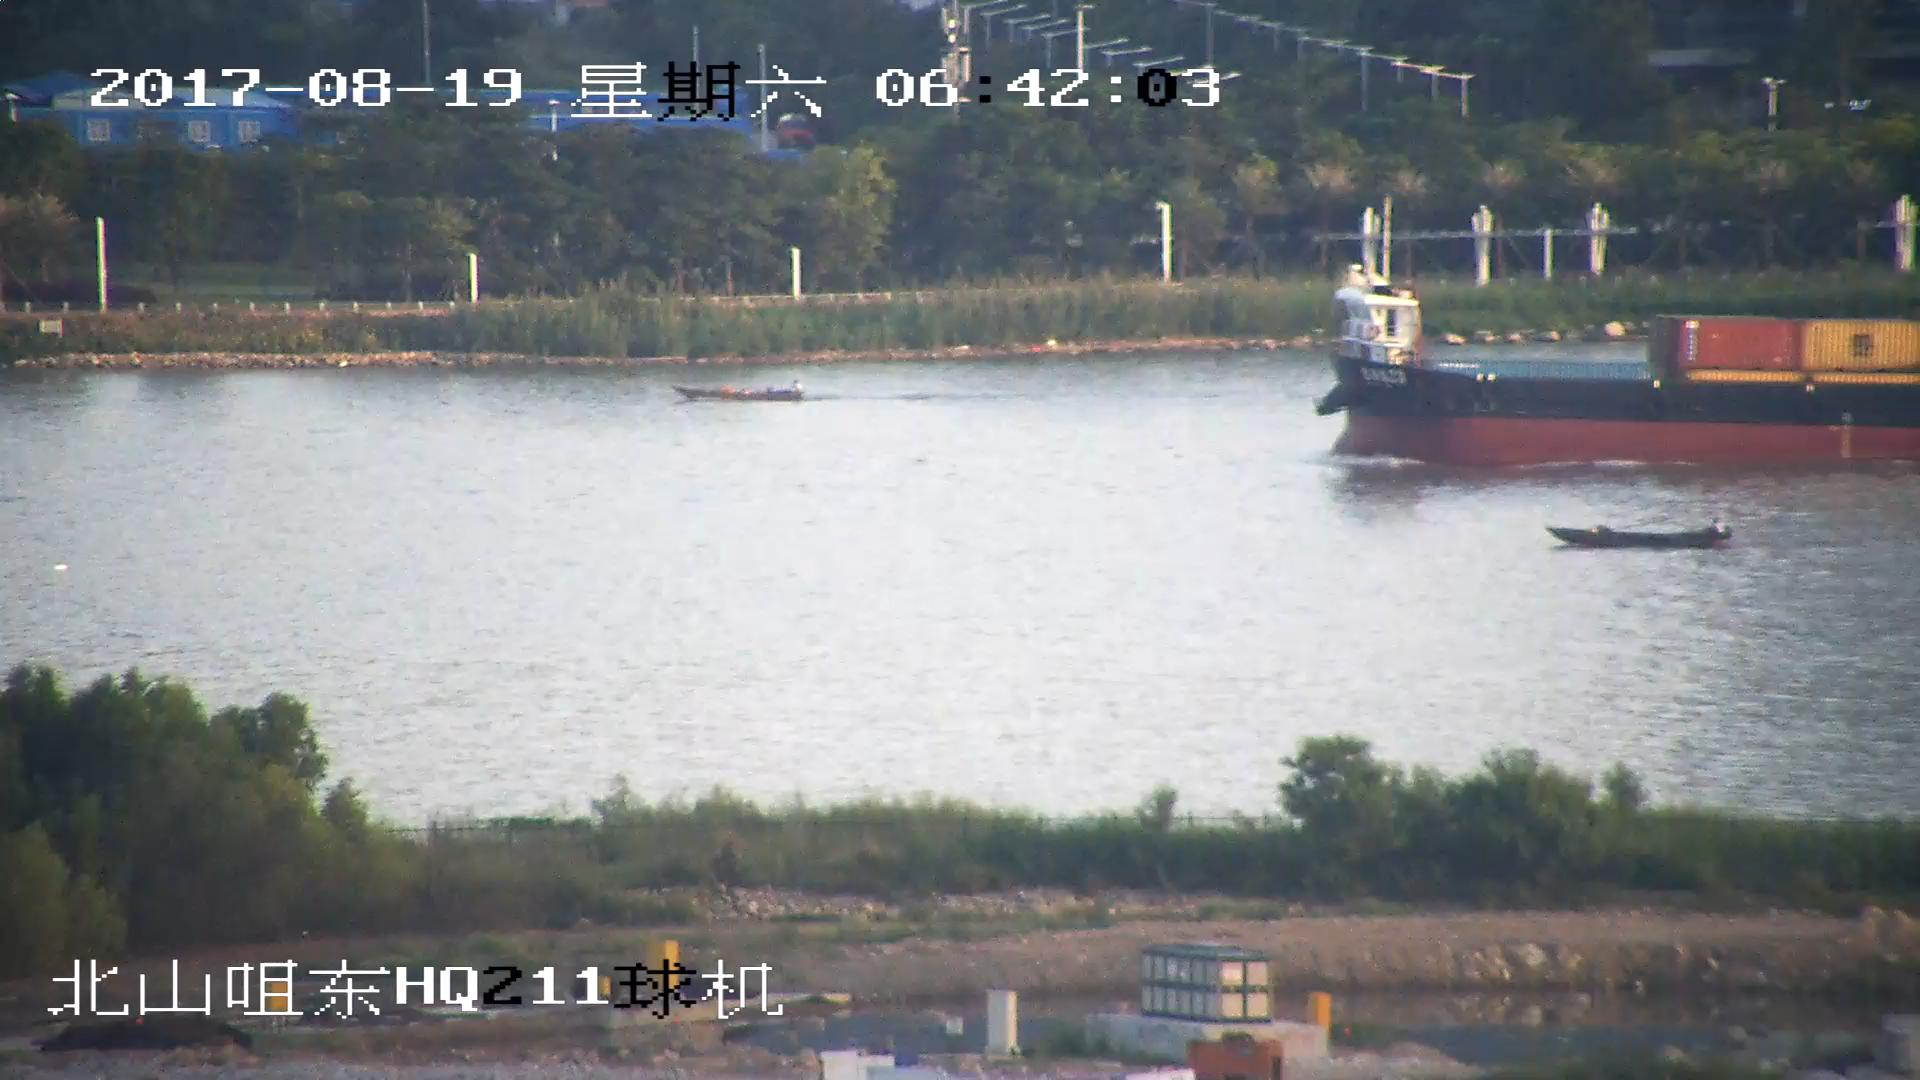container ship: (1310, 261, 1920, 472)
fishing boat: (1548, 520, 1735, 552), (678, 377, 808, 405)
